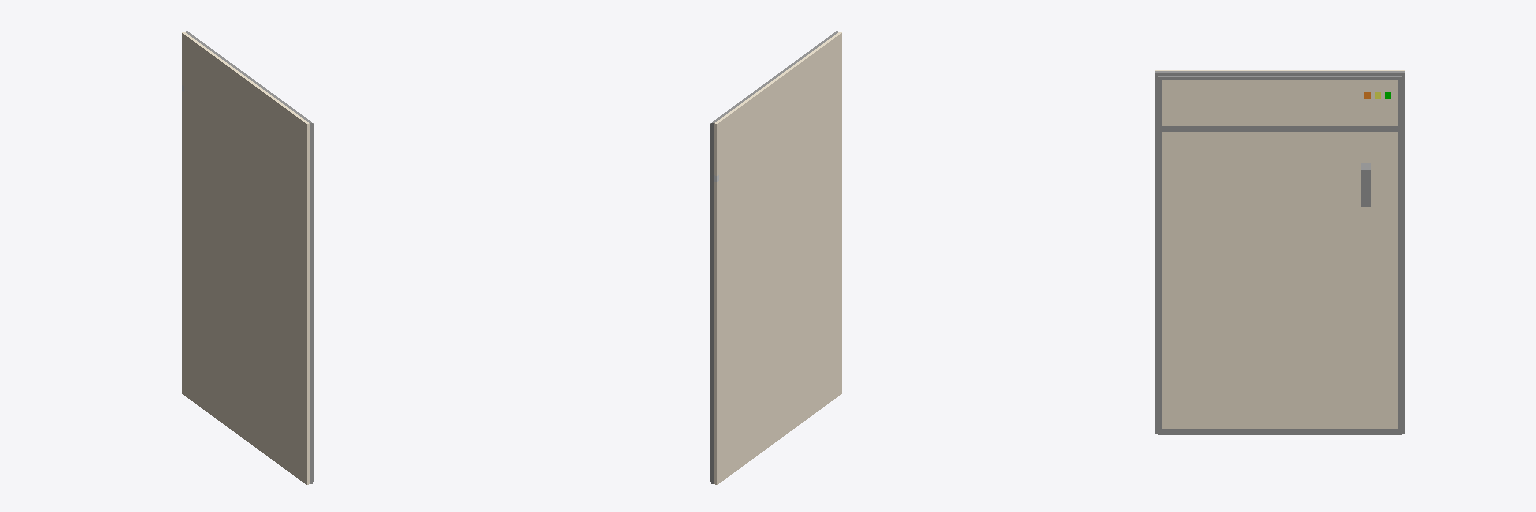
3 renders of one model, left to right at view 1: azimuth 30°, elevation 25°; view 2: azimuth 150°, elevation 25°; view 3: azimuth 270°, elevation 25°, orthographic.
Visible parts, largest first — view 1: ObjObject.003; view 2: ObjObject.003; view 3: ObjObject.003.
Boxes of the visible parts, <box> form: ObjObject.003: <box>182,31,313,484</box>; ObjObject.003: <box>710,31,841,484</box>; ObjObject.003: <box>1155,70,1404,434</box>.
Size of the model in its own units: 0.8 by 11.8 by 7.4.
1 materials, 1 textured.